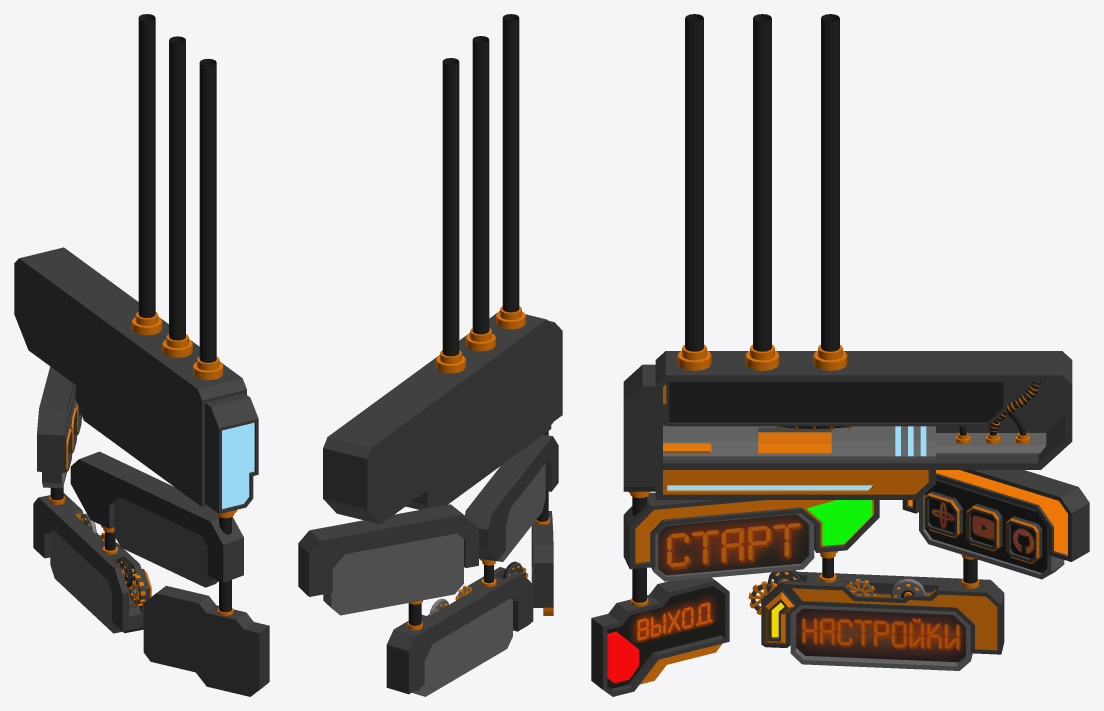
Rendered from Menu.fbx.
3 views of the same model, side by side, from view 1: azimuth 30°, elevation 25°; view 2: azimuth 150°, elevation 25°; view 3: azimuth 270°, elevation 25° (orthographic). The views are drawn at different scales.
Parts seen in each view (by area): view 1: Plane, Cylinder.007, Cube.004, Cube.007, Cube.006, Cube.005, Cylinder.004, Cylinder.009; view 2: Plane, Cylinder.007, Cube.005, Cube.006, Cube.004, Cube.007, Cylinder.008; view 3: Plane, Cylinder.007, Cube.006, Cube.004, Cube.007, Cube.005, Cube.011, Cube.010, Cube.012, Cylinder.004.
Part boxes in pixels (x1=…): Plane: x1=14, y1=247, x2=258, y2=513; Cylinder.007: x1=131, y1=14, x2=223, y2=380; Cube.004: x1=70, y1=451, x2=243, y2=587; Cube.007: x1=143, y1=585, x2=269, y2=696; Cube.006: x1=33, y1=493, x2=151, y2=633; Cube.005: x1=37, y1=366, x2=75, y2=488; Cylinder.004: x1=214, y1=510, x2=237, y2=615; Cylinder.009: x1=128, y1=573, x2=145, y2=606; Plane: x1=323, y1=311, x2=562, y2=524; Cylinder.007: x1=436, y1=14, x2=525, y2=373; Cube.005: x1=298, y1=504, x2=478, y2=615; Cube.006: x1=386, y1=567, x2=533, y2=696; Cube.004: x1=465, y1=434, x2=558, y2=561; Cube.007: x1=531, y1=511, x2=553, y2=615; Cylinder.008: x1=407, y1=600, x2=422, y2=630; Plane: x1=623, y1=351, x2=1072, y2=499; Cylinder.007: x1=677, y1=14, x2=847, y2=370; Cube.006: x1=761, y1=571, x2=1004, y2=670; Cube.004: x1=623, y1=492, x2=879, y2=581; Cube.007: x1=591, y1=577, x2=729, y2=696; Cube.005: x1=902, y1=470, x2=1089, y2=579; Cube.011: x1=924, y1=491, x2=962, y2=537; Cube.010: x1=1006, y1=516, x2=1042, y2=563; Cube.012: x1=966, y1=504, x2=1002, y2=551; Cylinder.004: x1=628, y1=491, x2=650, y2=606.
Size of the model in its own units: 286 by 1420 by 957.
